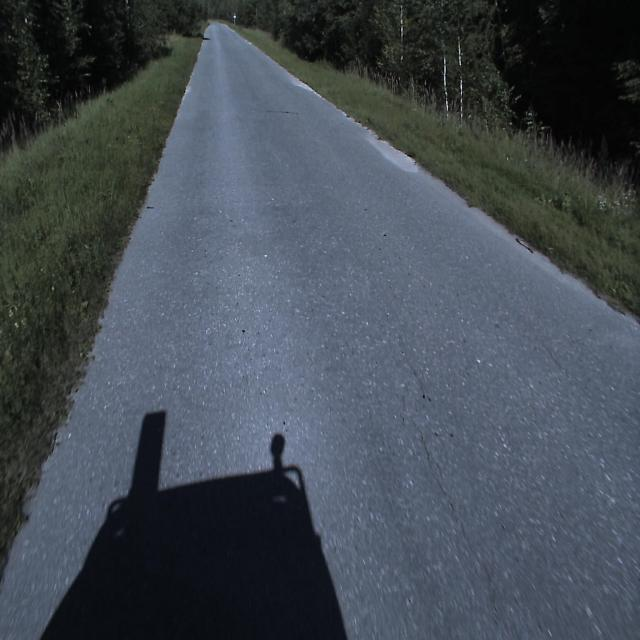road: (0, 21, 640, 639)
